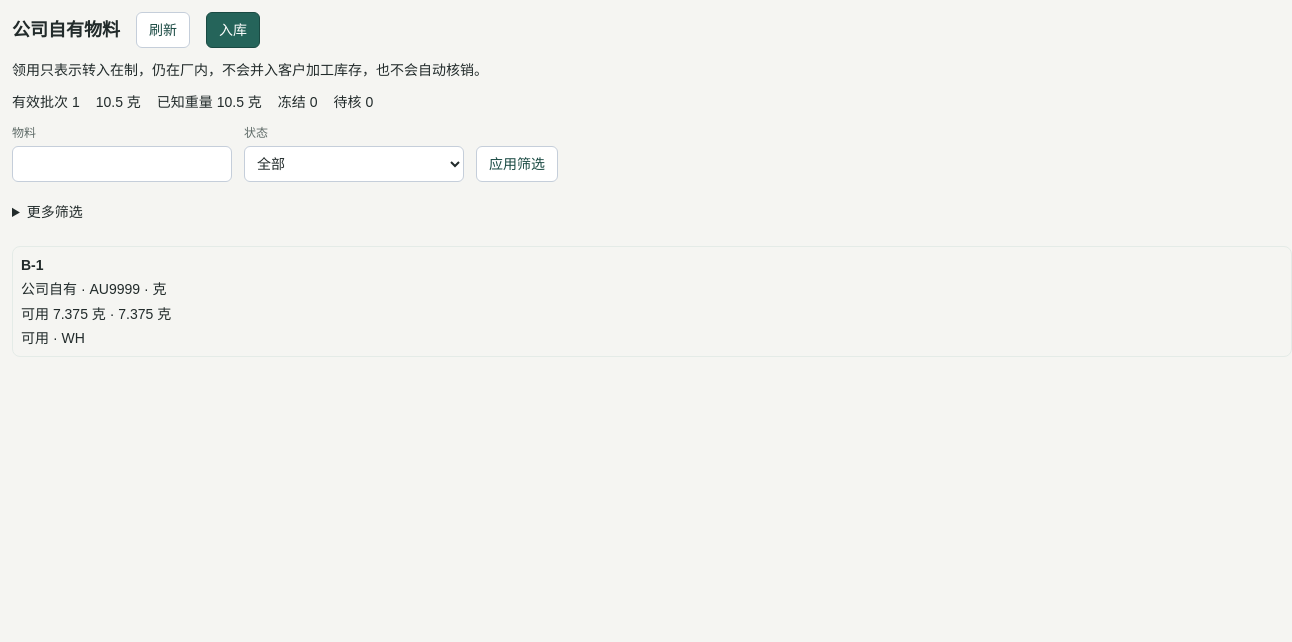
Test case: PrepStockPanel › 公司料总览按单位显示小数，选中批次能看到领用流水
The width and height of the screenshot is (1292, 642).
Check: the element named "库存总览" shows "10.5 克", box [96,94,141,110]
Click the button with class "stock-card-button" at (94, 289), box [21,255,1283,348]
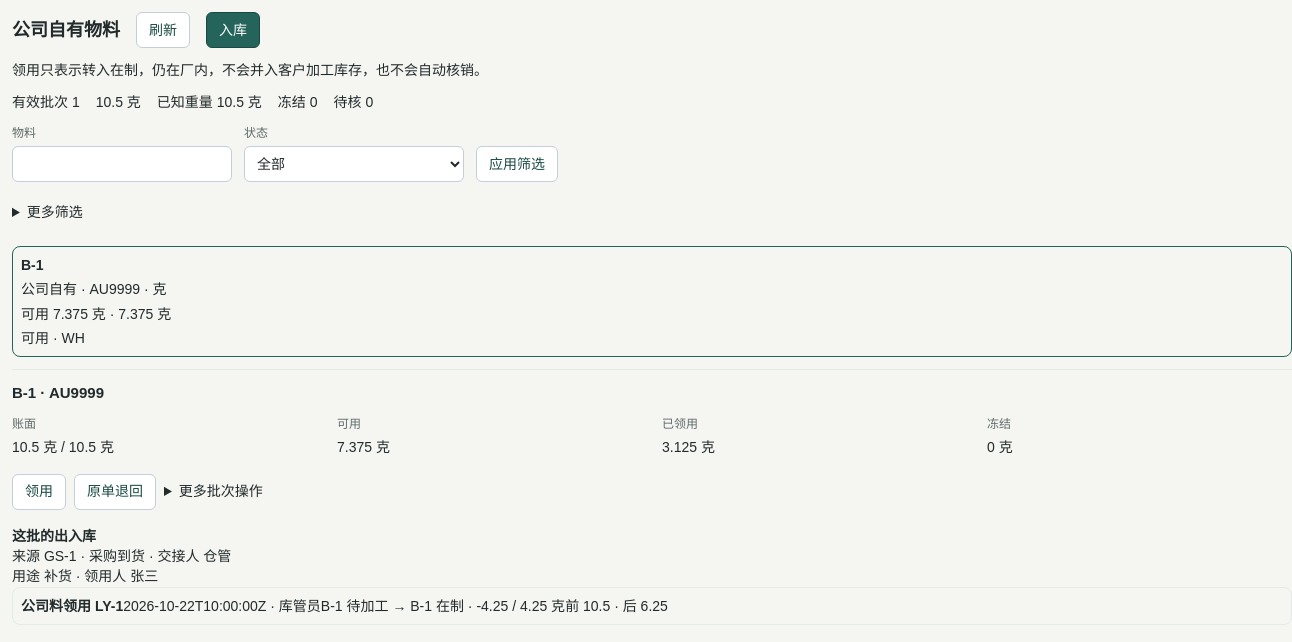
Check: the element named "当前批次摘要" shows "3.125 克", box [662,439,715,455]
Check: the element named "批次流水" shows "公司料领用 LY-1", box [21,598,123,614]
Check: the text "前 10.5 · 后 6.25" is shown, box [565,598,668,614]
Type "STONE" into the field named "筛选物料" at (122, 164), box [12,146,232,182]
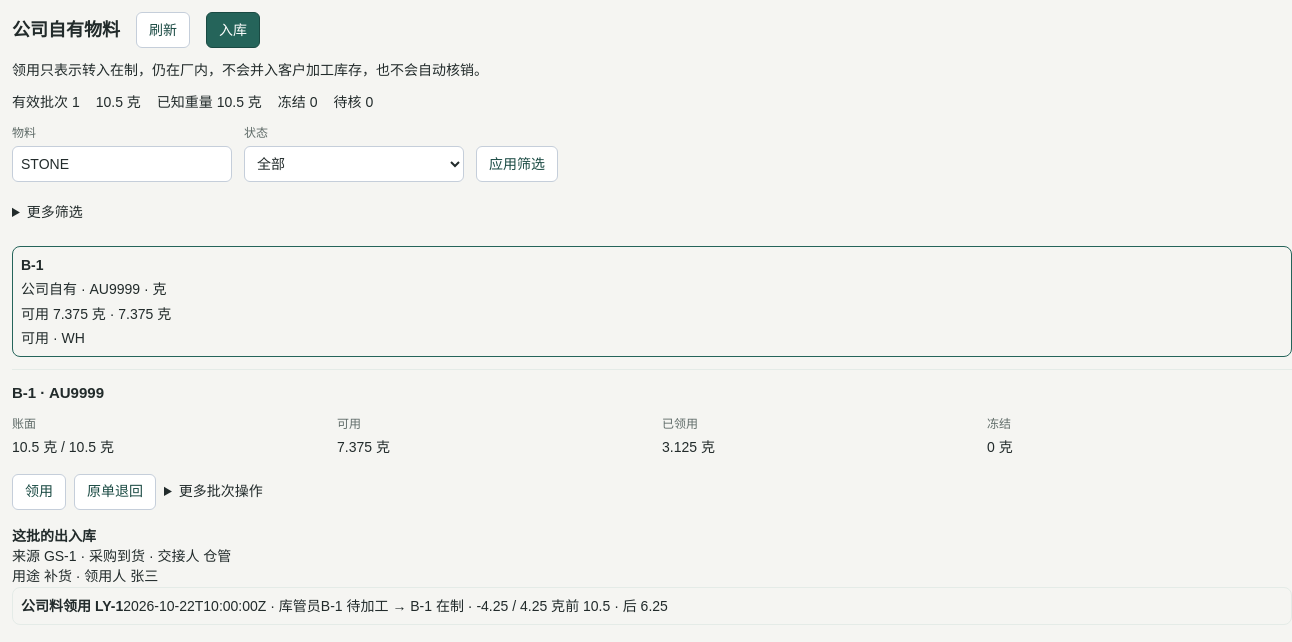
Click the button "应用筛选" at (517, 164), box [476,146,558,182]
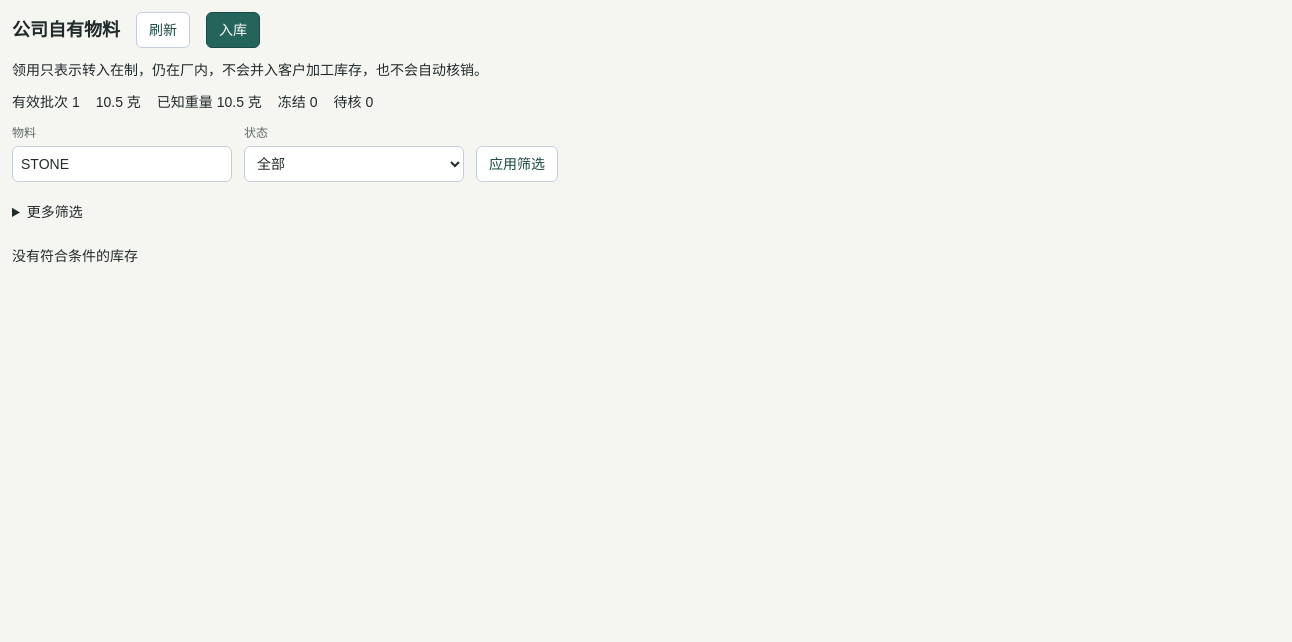
Check: the text "没有符合条件的库存" is shown, box [12,248,138,264]
